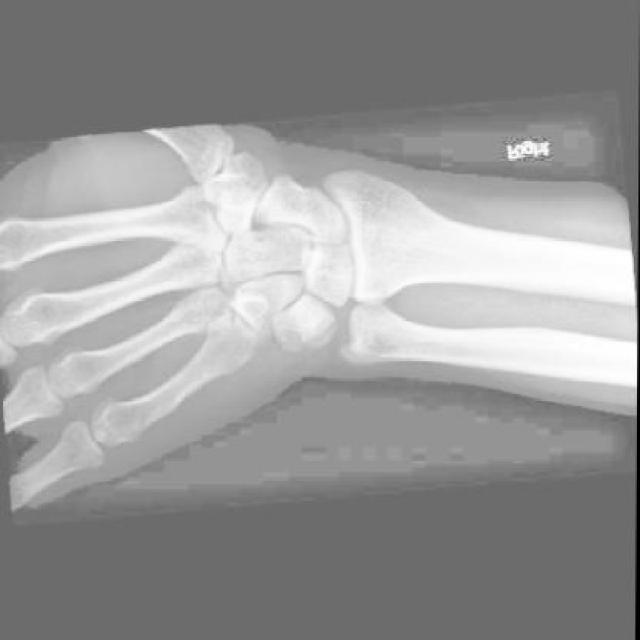Fracture: (286, 297, 337, 348)
